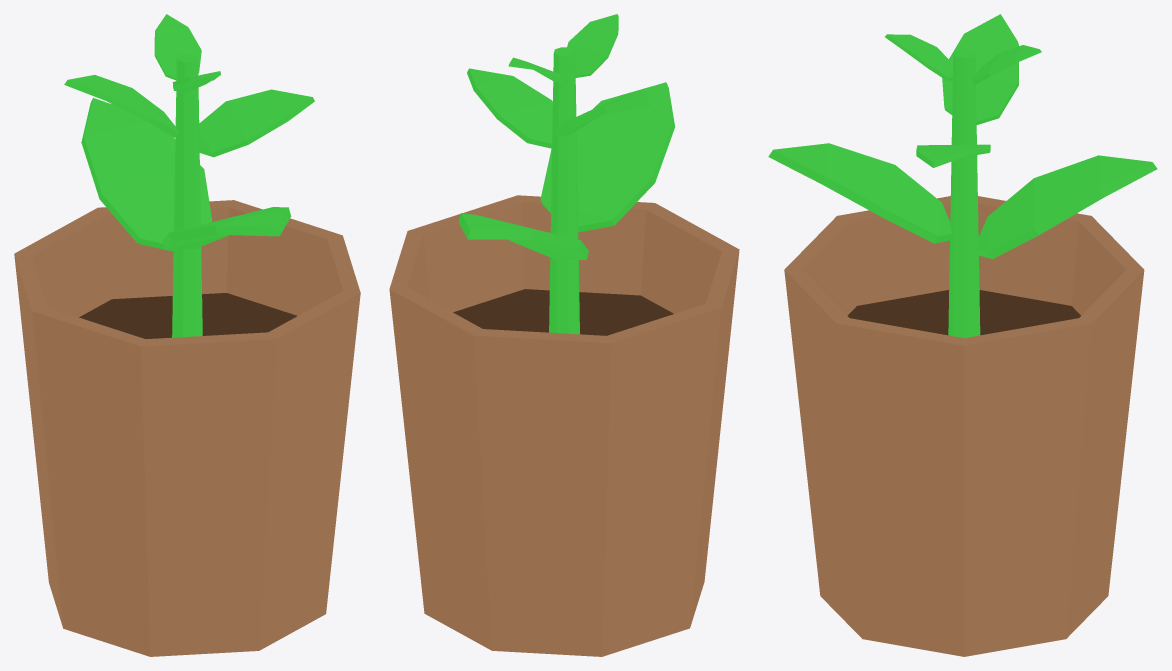
Rendered from 005_pot.gltf.
3 renders of one model, left to right at view 1: azimuth 30°, elevation 25°; view 2: azimuth 150°, elevation 25°; view 3: azimuth 270°, elevation 25°, orthographic.
Visible parts, largest first — view 1: Cube; view 2: Cube; view 3: Cube.
Part boxes in pixels (x1,y1,x2,y2): Cube: (14, 14, 360, 656); Cube: (389, 14, 739, 656); Cube: (768, 14, 1157, 656).
Bounding box in the file's own units: 3 × 5.1 × 3.24.
